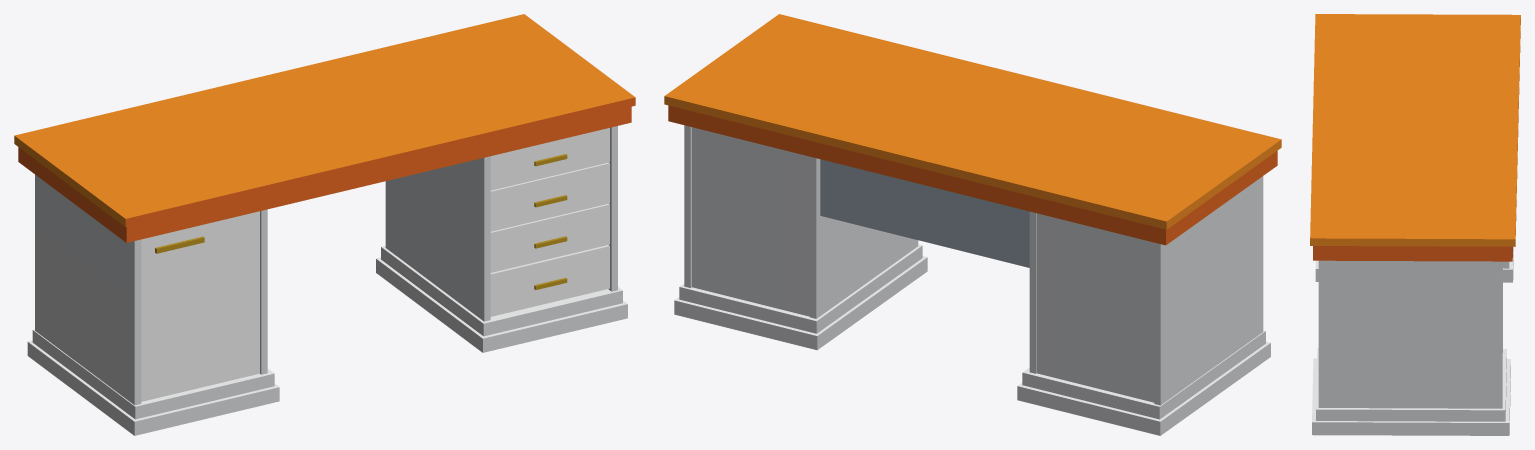
The model's file is officetable.fbx.
3 views of the same model, side by side, from view 1: azimuth 30°, elevation 25°; view 2: azimuth 150°, elevation 25°; view 3: azimuth 270°, elevation 25° (orthographic). The views are drawn at different scales.
Parts seen in each view (by area): view 1: officetable; view 2: officetable; view 3: officetable.
Boxes of the visible parts, x1,y1,x2,y2 form: officetable: (14, 14, 635, 435); officetable: (664, 14, 1281, 435); officetable: (1310, 14, 1520, 435).
Size of the model in its own units: 391 by 162 by 155.
